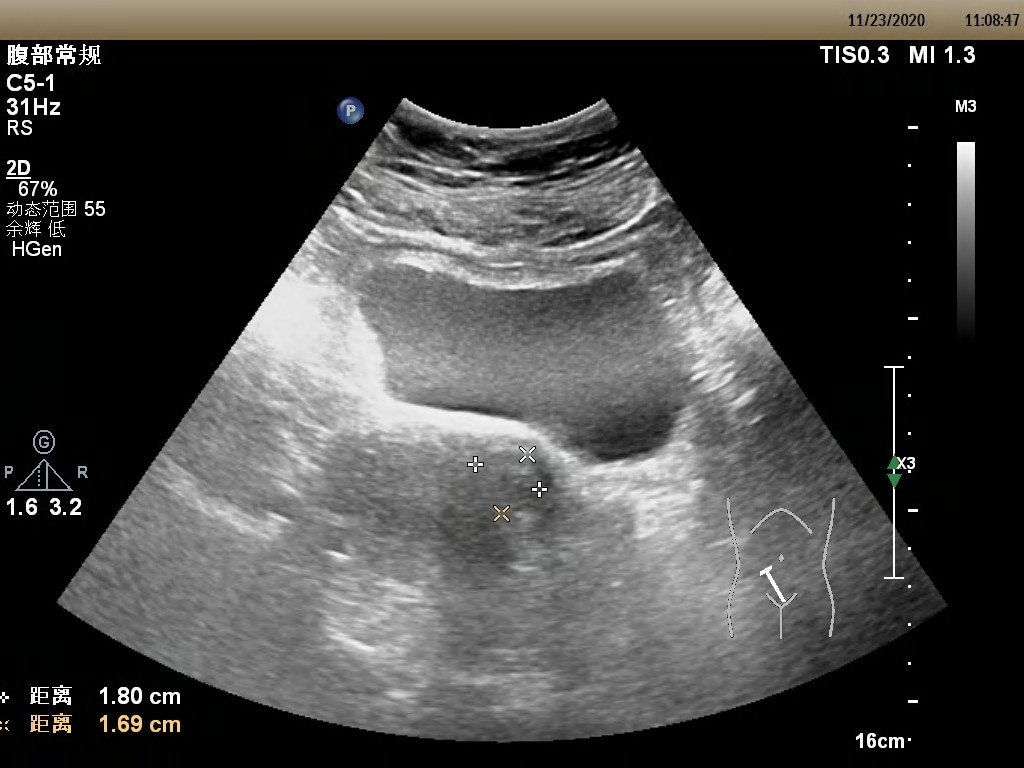肌瘤: (477, 454, 541, 515)
